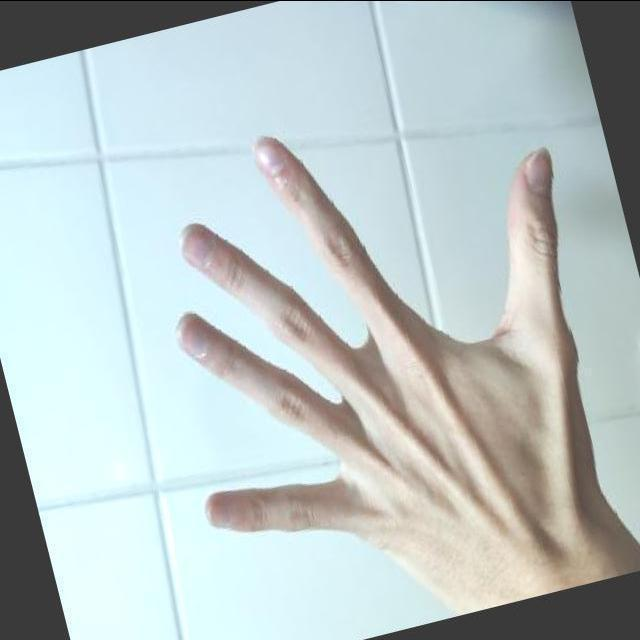Hand: (165, 136, 640, 610)
